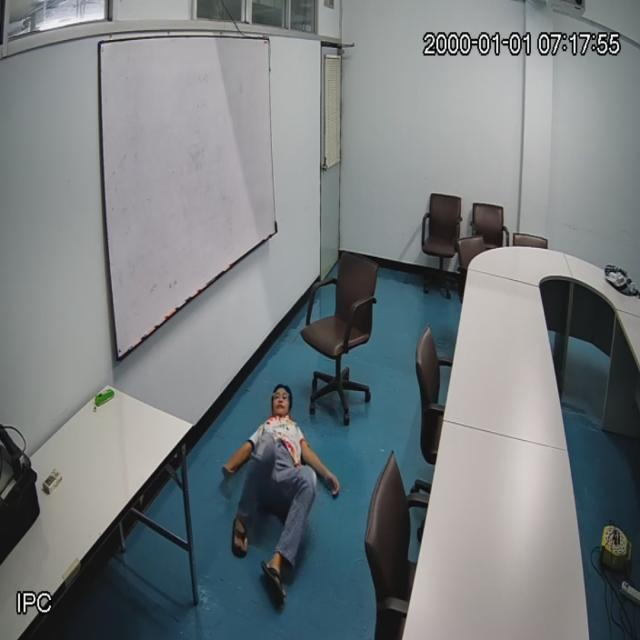fall: (215, 368, 344, 612)
